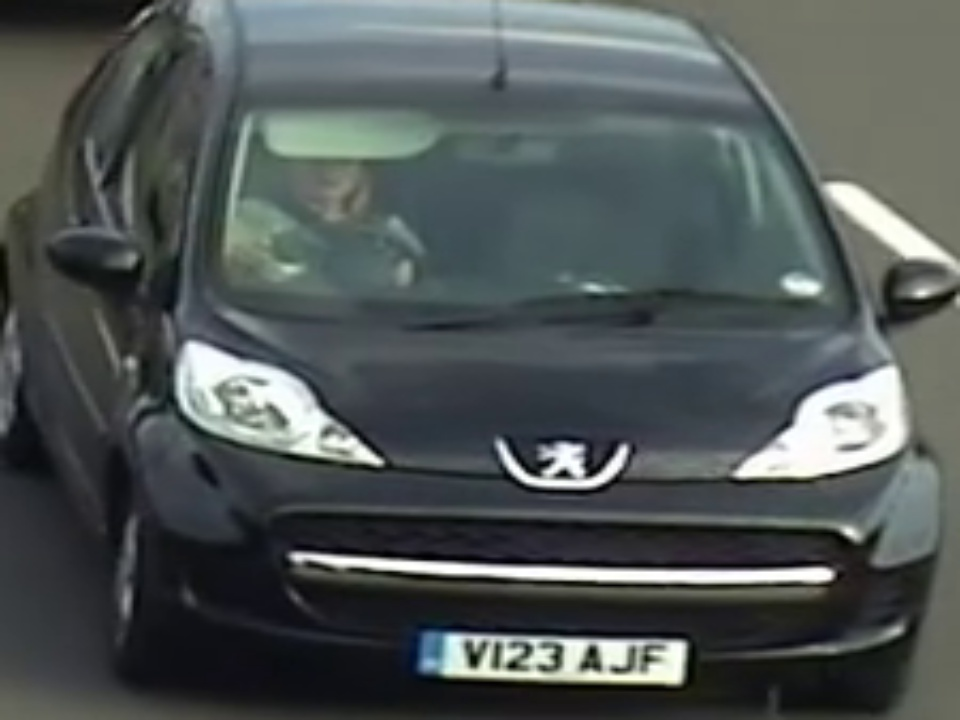ONE: (216, 101, 821, 322)
